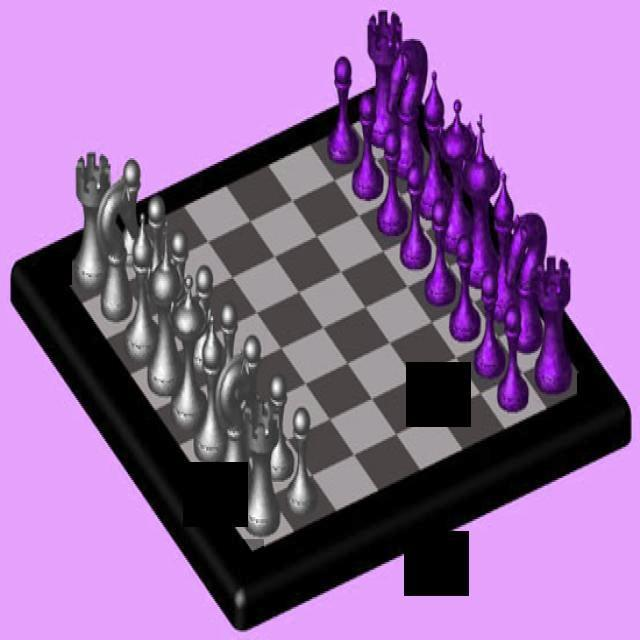chess-table-corners: (577, 373, 601, 404), (52, 254, 72, 285), (243, 539, 264, 566)
